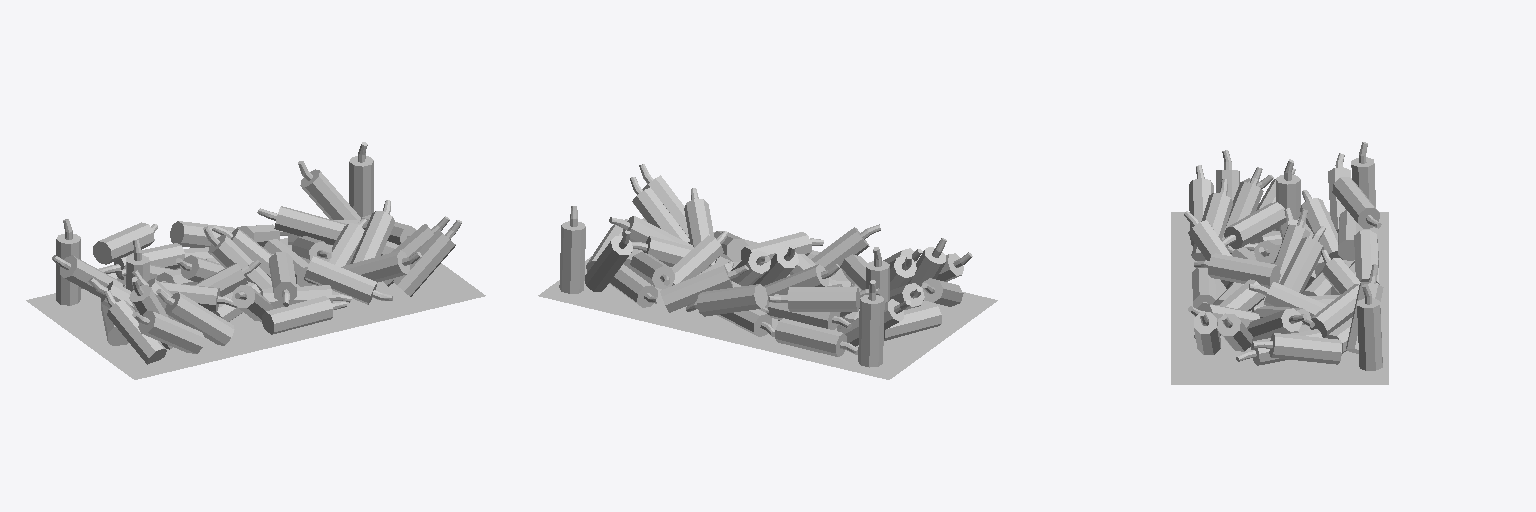
The model's file is PixelChest_TNT.obj.
3 views of the same model, side by side, from view 1: azimuth 30°, elevation 25°; view 2: azimuth 150°, elevation 25°; view 3: azimuth 270°, elevation 25° (orthographic).
Parts seen in each view (by area): view 1: TNT_Cube.010; view 2: TNT_Cube.010; view 3: TNT_Cube.010.
Boxes of the visible parts, box(x1,y1,x2,y2) form: TNT_Cube.010: box(26, 142, 485, 379); TNT_Cube.010: box(538, 164, 997, 379); TNT_Cube.010: box(1171, 142, 1388, 384).
Size of the model in its own units: 1.16 by 0.2871 by 0.6264.